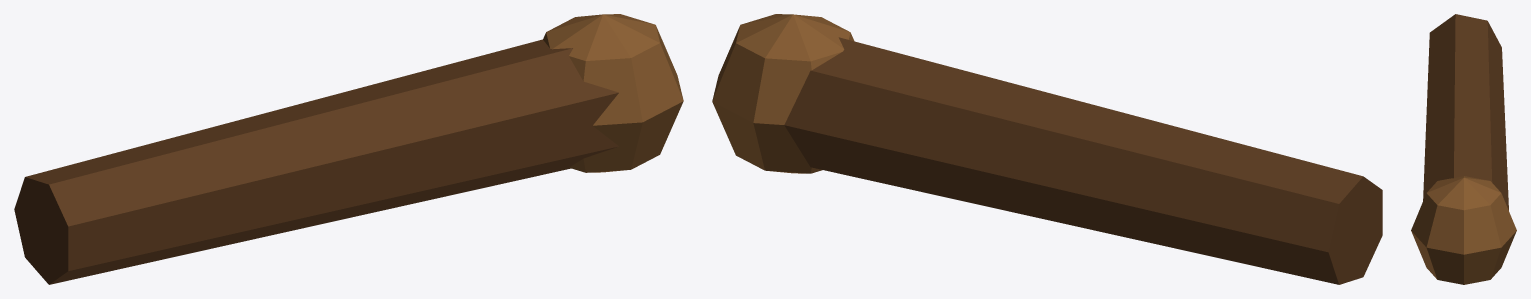
File: elbow_l.obj
3 renders of one model, left to right at view 1: azimuth 30°, elevation 25°; view 2: azimuth 150°, elevation 25°; view 3: azimuth 270°, elevation 25°, orthographic. The views are drawn at different scales.
Visible parts, largest first — view 1: Forearm_twig_L, Elbow_knot_L; view 2: Forearm_twig_L, Elbow_knot_L; view 3: Forearm_twig_L, Elbow_knot_L.
Boxes of the visible parts, bbox=[...] form: Forearm_twig_L: bbox=[14, 39, 618, 284]; Elbow_knot_L: bbox=[543, 14, 683, 172]; Forearm_twig_L: bbox=[784, 37, 1382, 284]; Elbow_knot_L: bbox=[712, 14, 854, 173]; Forearm_twig_L: bbox=[1423, 14, 1508, 210]; Elbow_knot_L: bbox=[1411, 176, 1516, 284].
Bounding box in the file's own units: 0.555 × 0.132 × 0.12.
